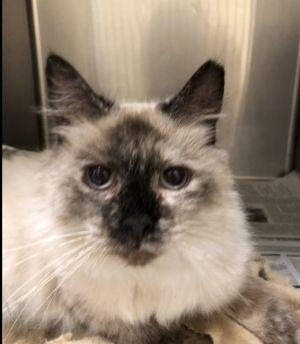siamese: (28, 41, 247, 288)
